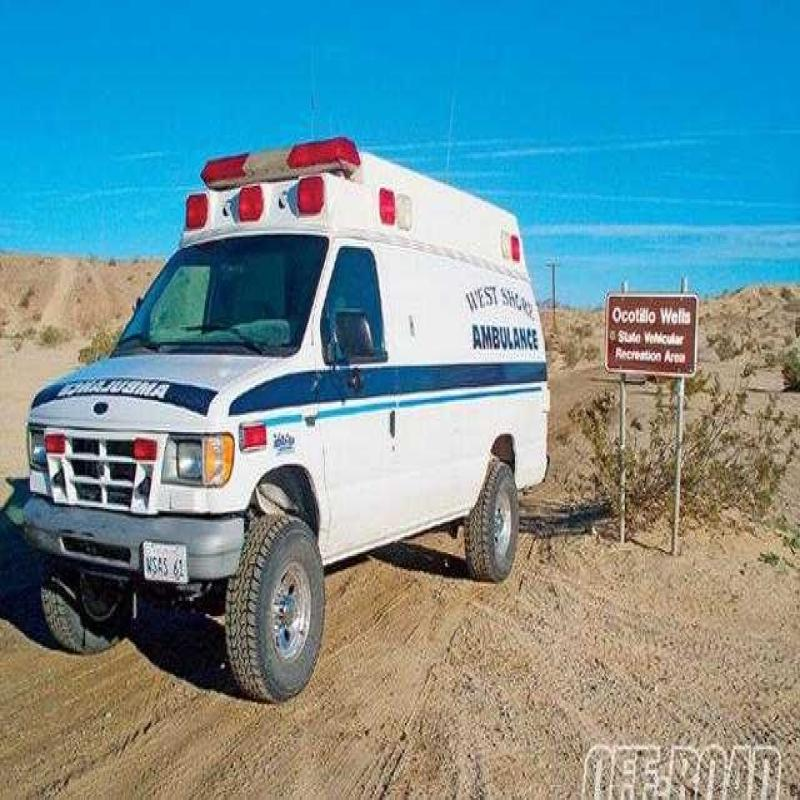AmbulanceSiren: (192, 139, 367, 184)
